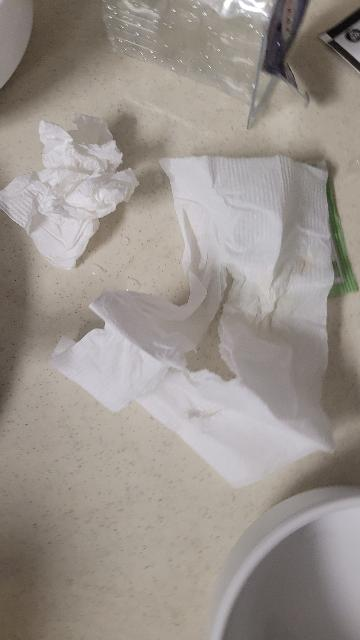Kagit: (104, 150, 341, 490), (3, 104, 145, 280)
Plastik: (94, 0, 313, 133)
